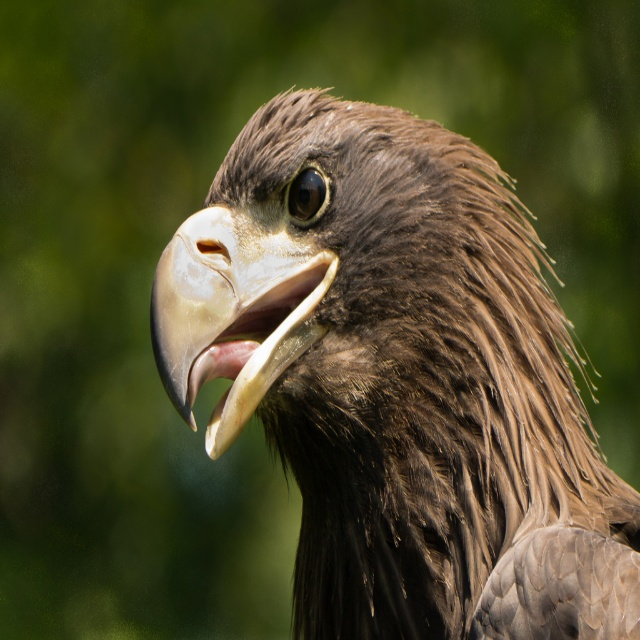Eagle: (152, 84, 640, 639)
